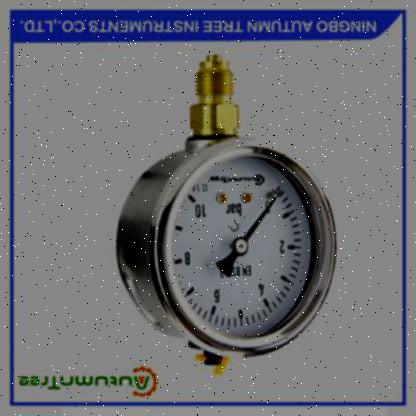needle: (242, 194, 281, 241)
